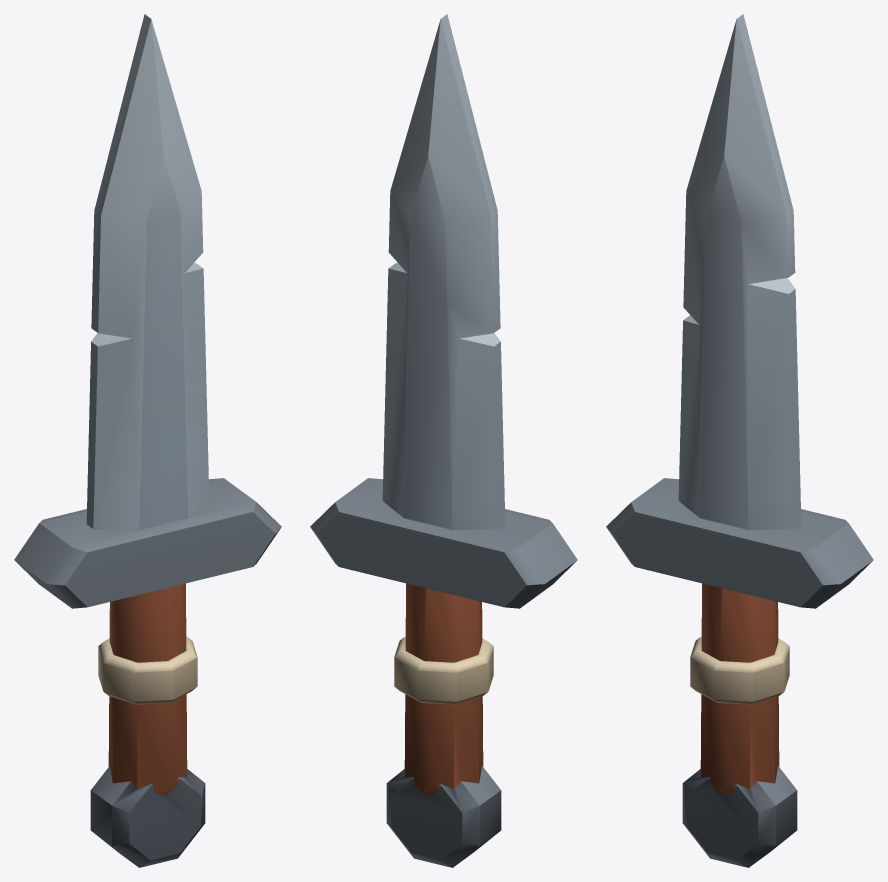
Rendered from dagger_short.glb.
3 views of the same model, side by side, from view 1: azimuth 30°, elevation 25°; view 2: azimuth 150°, elevation 25°; view 3: azimuth 330°, elevation 25° (orthographic).
Parts seen in each view (by area): view 1: Item; view 2: Item; view 3: Item.
Part boxes in pixels (left/top/right/bottom): Item: left=14, top=14, right=281, bottom=867; Item: left=310, top=14, right=577, bottom=867; Item: left=606, top=14, right=873, bottom=867.
Bounding box in the file's own units: 0.28 × 0.9554 × 0.1064.
2 materials, 2 textured.
